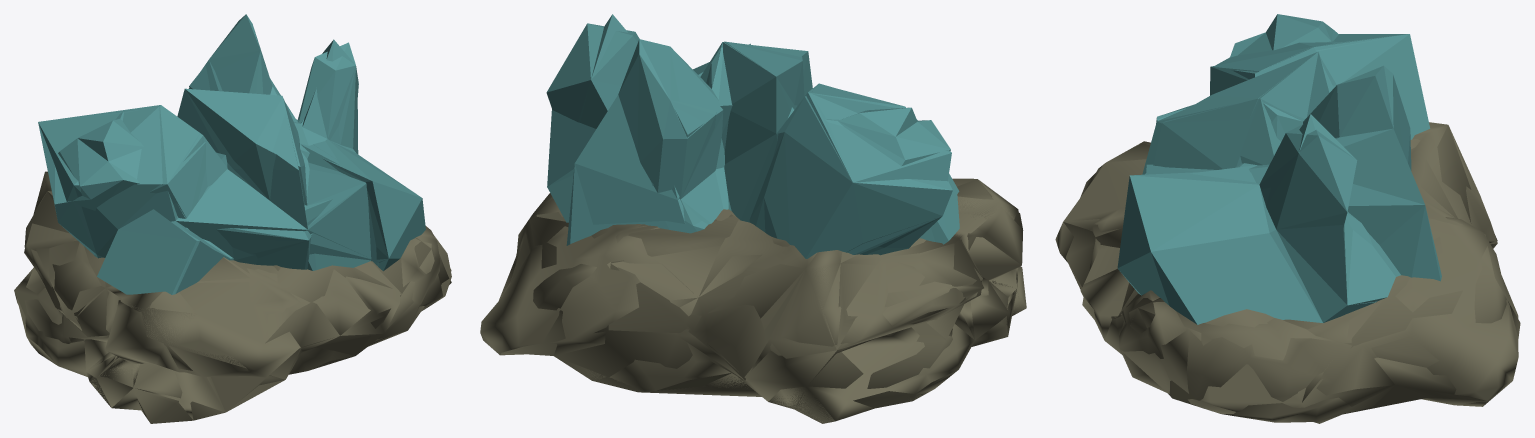
The model's file is scenarium_all_lods.fbx.
3 renders of one model, left to right at view 1: azimuth 30°, elevation 25°; view 2: azimuth 150°, elevation 25°; view 3: azimuth 270°, elevation 25°, orthographic. The views are drawn at different scales.
Parts seen in each view (by area): view 1: scenarium_base_lod1, scenarium_lod1, scenarium_lod2, scenarium_base_lod2, scenarium_lod3, scenarium_base_lod3; view 2: scenarium_lod1, scenarium_base_lod1, scenarium_base_lod2, scenarium_lod2, scenarium_base_lod3, scenarium_lod3; view 3: scenarium_base_lod1, scenarium_lod1, scenarium_lod2, scenarium_base_lod2, scenarium_base_lod3, scenarium_lod3.
Boxes of the visible parts, <box> form: scenarium_base_lod1: <box>38,14,425,294</box>; scenarium_lod1: <box>14,171,451,423</box>; scenarium_lod2: <box>38,43,416,265</box>; scenarium_base_lod2: <box>16,172,451,420</box>; scenarium_lod3: <box>99,39,374,262</box>; scenarium_base_lod3: <box>24,182,451,412</box>; scenarium_lod1: <box>480,179,1026,422</box>; scenarium_base_lod1: <box>546,23,959,258</box>; scenarium_base_lod2: <box>500,178,1025,423</box>; scenarium_lod2: <box>548,24,951,254</box>; scenarium_base_lod3: <box>499,179,1021,401</box>; scenarium_lod3: <box>547,14,935,241</box>; scenarium_base_lod1: <box>1117,14,1441,324</box>; scenarium_lod1: <box>1055,122,1518,423</box>; scenarium_lod2: <box>1145,34,1424,321</box>; scenarium_base_lod2: <box>1063,122,1520,411</box>; scenarium_base_lod3: <box>1063,125,1497,414</box>; scenarium_lod3: <box>1142,74,1395,305</box>.
Bounding box in the file's own units: 3.6 × 2.51 × 3.37.
